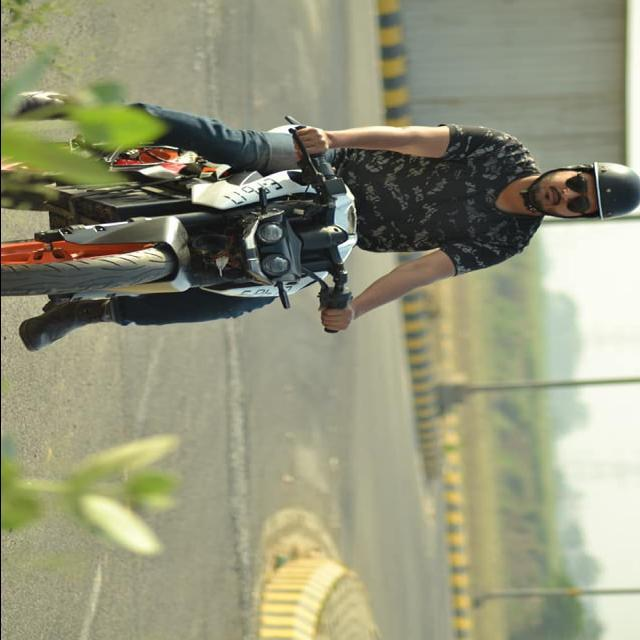motorcycle: (4, 128, 640, 342)
